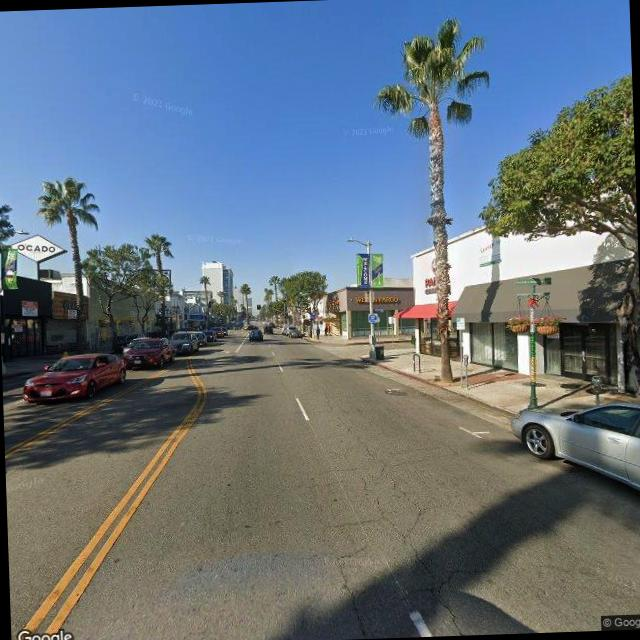crack: (317, 431, 494, 639)
